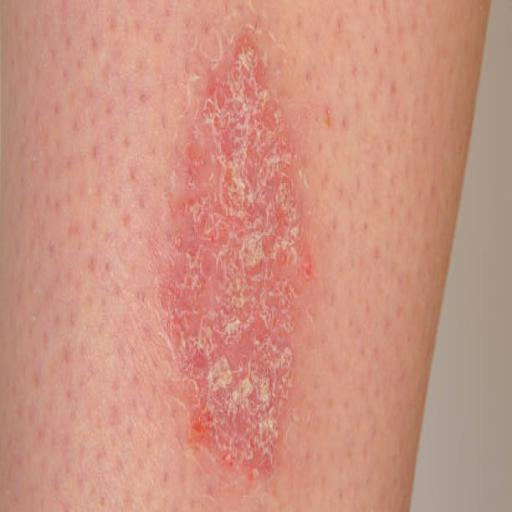bruises: (215, 190, 269, 388)
